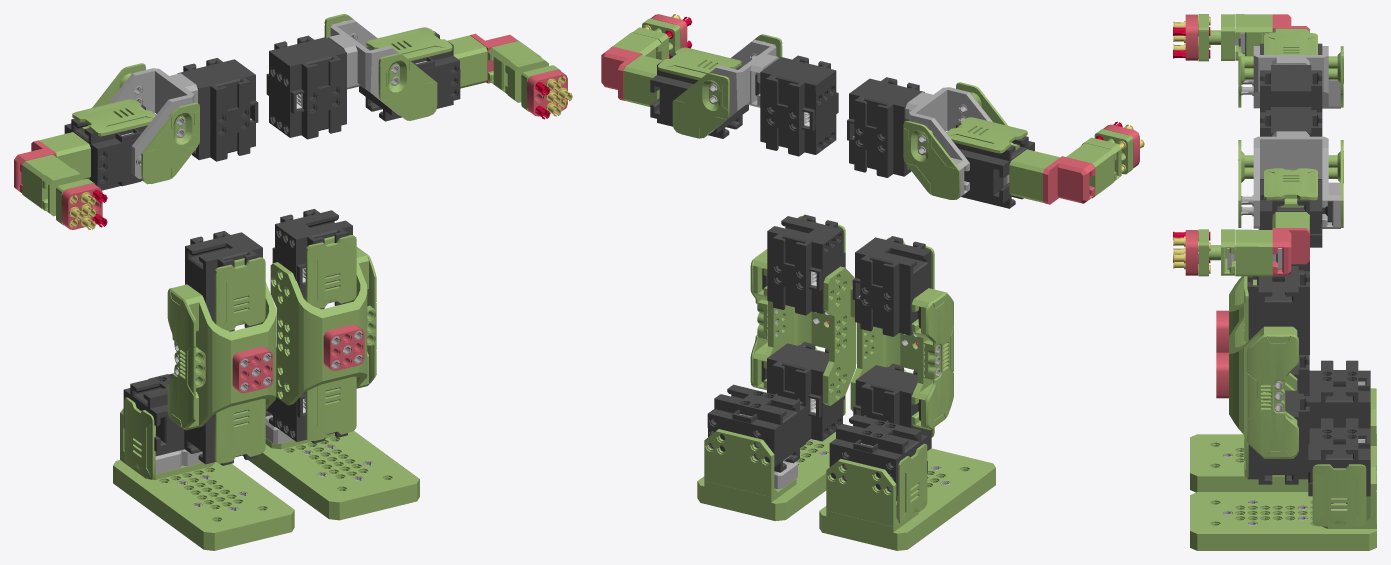
File: DonGTemp.fbx
3 views of the same model, side by side, from view 1: azimuth 30°, elevation 25°; view 2: azimuth 150°, elevation 25°; view 3: azimuth 270°, elevation 25° (orthographic). The views are drawn at different scales.
Visible parts, largest first — view 1: youtui, zuotui, youshou, zuoshou; view 2: youtui, zuotui, youshou, zuoshou; view 3: zuotui, zuoshou, youshou, youtui.
Part boxes in pixels (x1,y1,x2,y2): youtui: [113, 231, 294, 550]; zuotui: [242, 209, 419, 520]; youshou: [14, 58, 258, 229]; zuoshou: [266, 14, 572, 139]; youtui: [819, 236, 995, 550]; zuotui: [697, 214, 856, 521]; youshou: [847, 77, 1144, 208]; zuoshou: [601, 14, 838, 156]; zuotui: [1190, 266, 1376, 550]; zuoshou: [1173, 107, 1343, 276]; youshou: [1173, 14, 1343, 112]; youtui: [1190, 228, 1376, 492].
Size of the model in its own units: 263 by 215 by 98.15.
